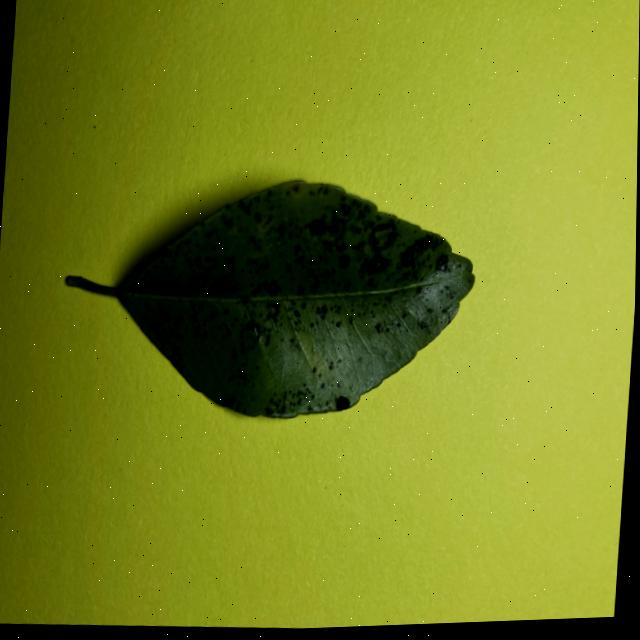sooty_mold: (149, 180, 474, 417)
